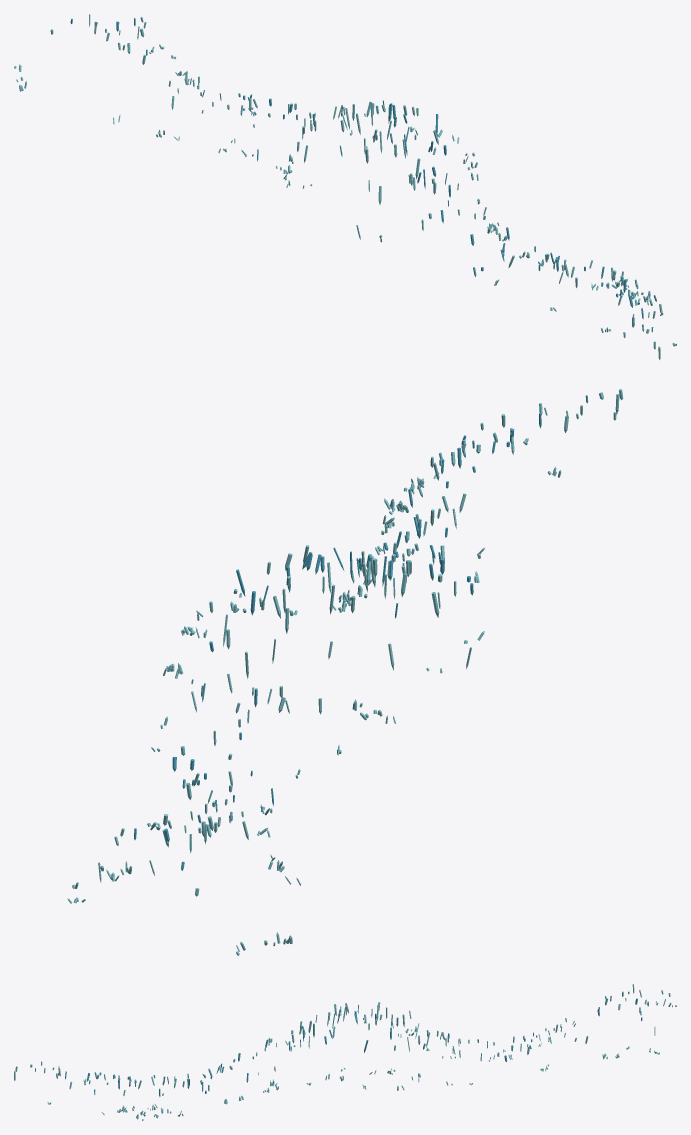
The model's file is cave_echo_grotto_glow.glb.
3 views of the same model, one above another, from view 1: azimuth 30°, elevation 25°; view 2: azimuth 150°, elevation 25°; view 3: azimuth 270°, elevation 25° (orthographic). The views are drawn at different scales.
Parts seen in each view (by area): view 1: geometry_0; view 2: geometry_0; view 3: geometry_0.
Boxes of the visible parts, box(x1,y1,x2,y2) form: geometry_0: box(14, 14, 676, 359); geometry_0: box(67, 389, 623, 955); geometry_0: box(14, 984, 676, 1120).
Size of the model in its own units: 65.57 by 24.33 by 186.
